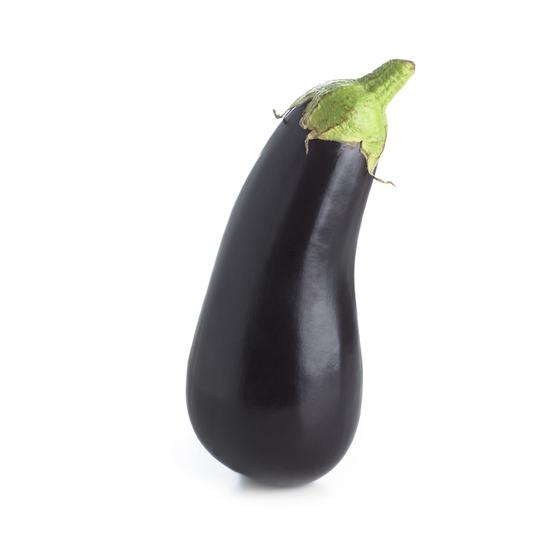eggplant: (190, 71, 388, 485)
